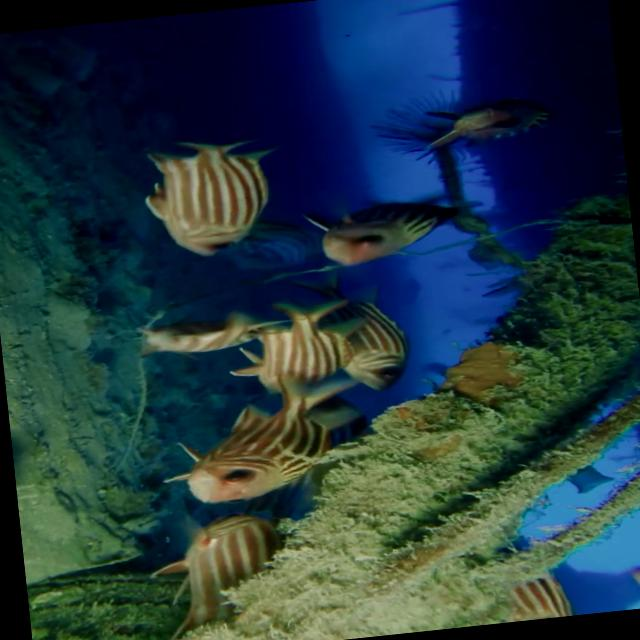Asker Baligi: (136, 376, 372, 528), (225, 274, 438, 408), (137, 130, 290, 262), (282, 182, 470, 282)
